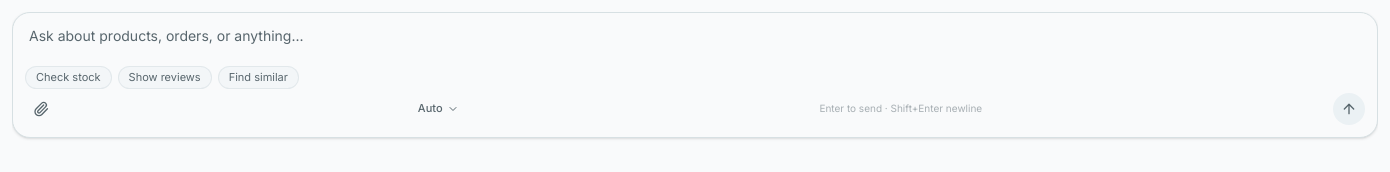
Test: PromptInputBox — suggestions › fills the composer with the prompt rather than sending it
This screenshot has width=1390, height=172.
Click the button "Show reviews": (165, 77) 118,66 -> 212,88
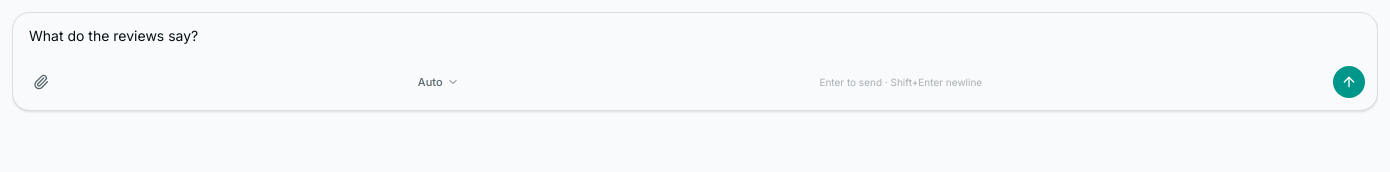
Check: the text box holds "What do the reviews say?", box 13,13 -> 1377,60
